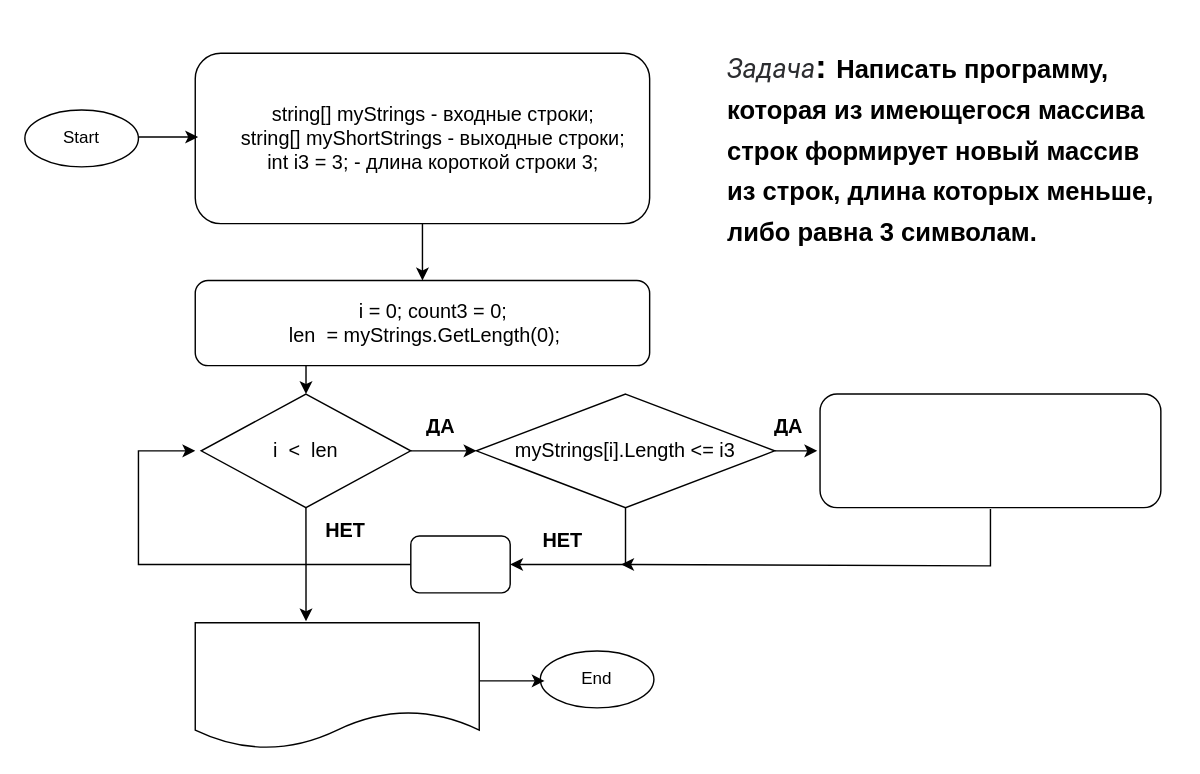
Some shapes in this 1200 by 774 pixel diagram are drawn without their labels. The shapes that lost their labels are listed below. From the top down, each one's box as (x1, y1, x2, y2) in pixels, then its label:
(819, 393, 1161, 508): myShortStrings[ count3 ] = myStrings[i]; count3++;
(409, 535, 510, 593): i++;
(194, 621, 479, 749): myShortStrings; count3;
